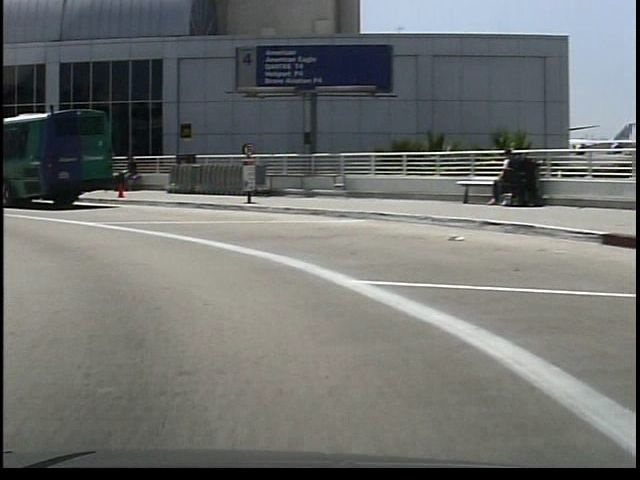person: (113, 151, 138, 195)
